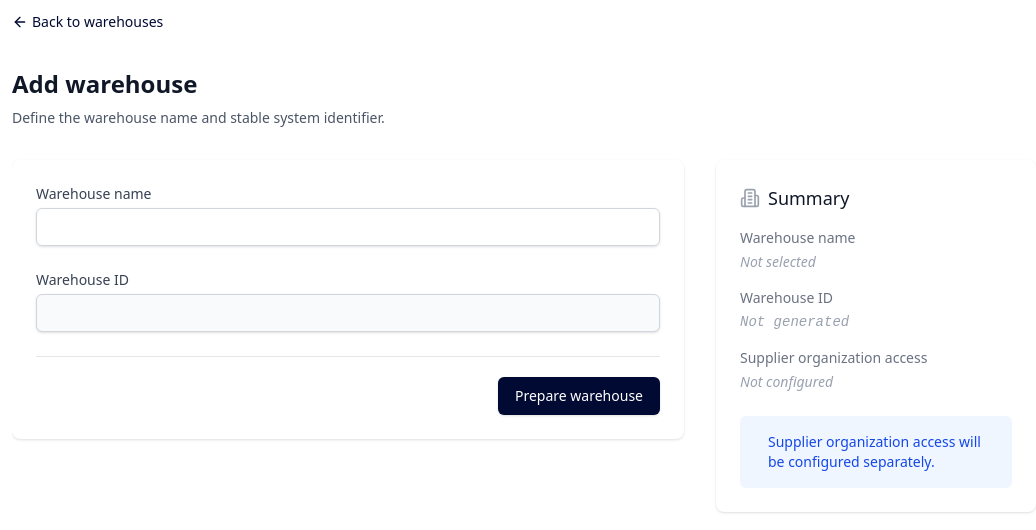
Test case: AddWarehousePage tests › 11. reports only required-name validation for one-character input;
The width and height of the screenshot is (1036, 530).
Type "A" into the field labelled "Warehouse name" at (348, 227), box [36,208,660,246]
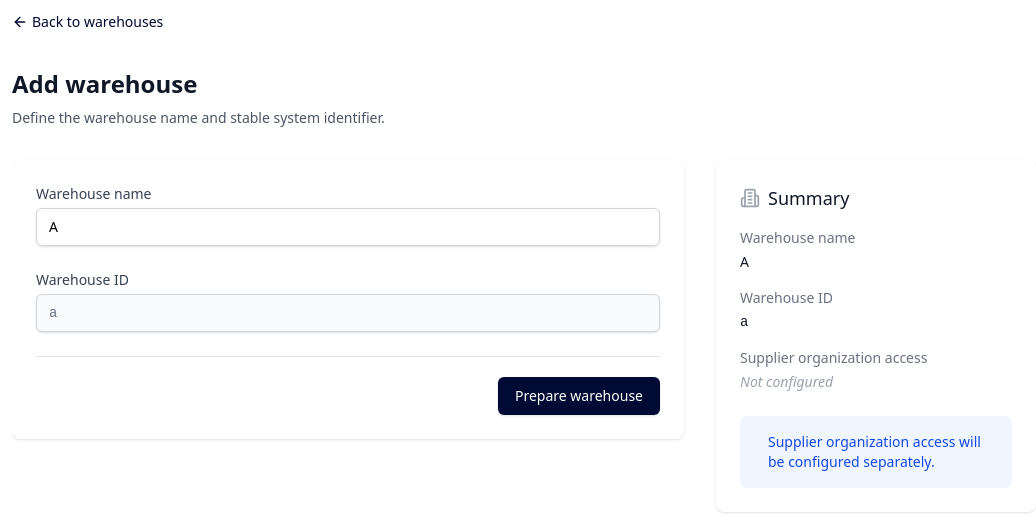
Click the button "Prepare warehouse" at (579, 396), box [498,377,660,415]
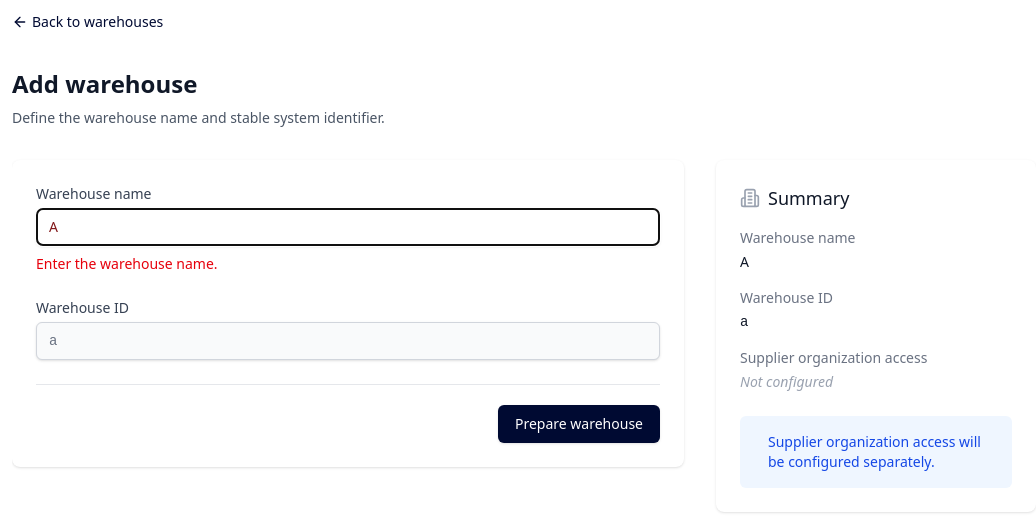
expect the message reads "Enter the warehouse name.": met, box [36,254,218,273]
